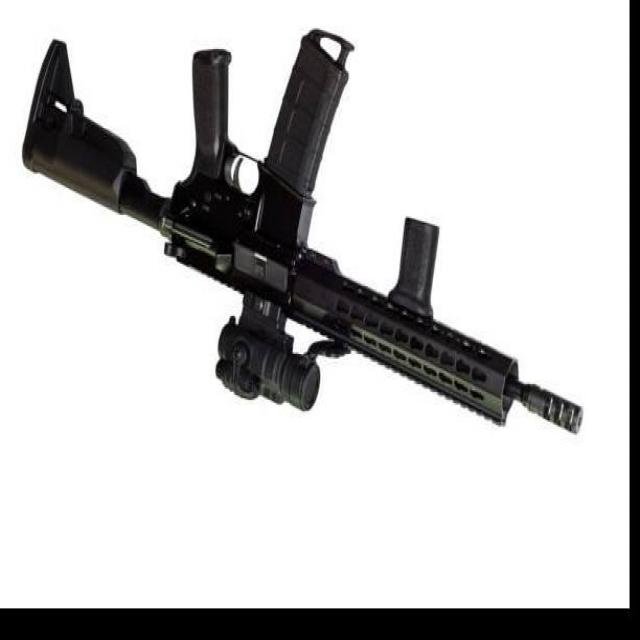heavy-weapon: (21, 28, 585, 437)
